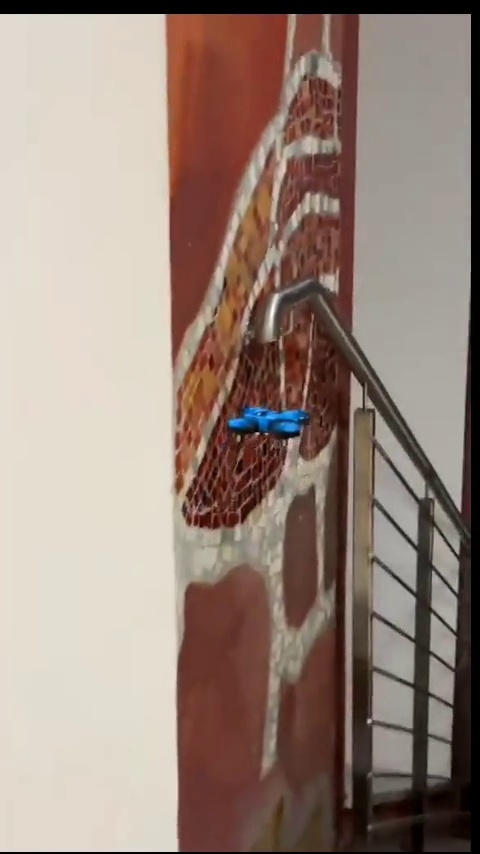drone: (233, 405, 318, 440)
